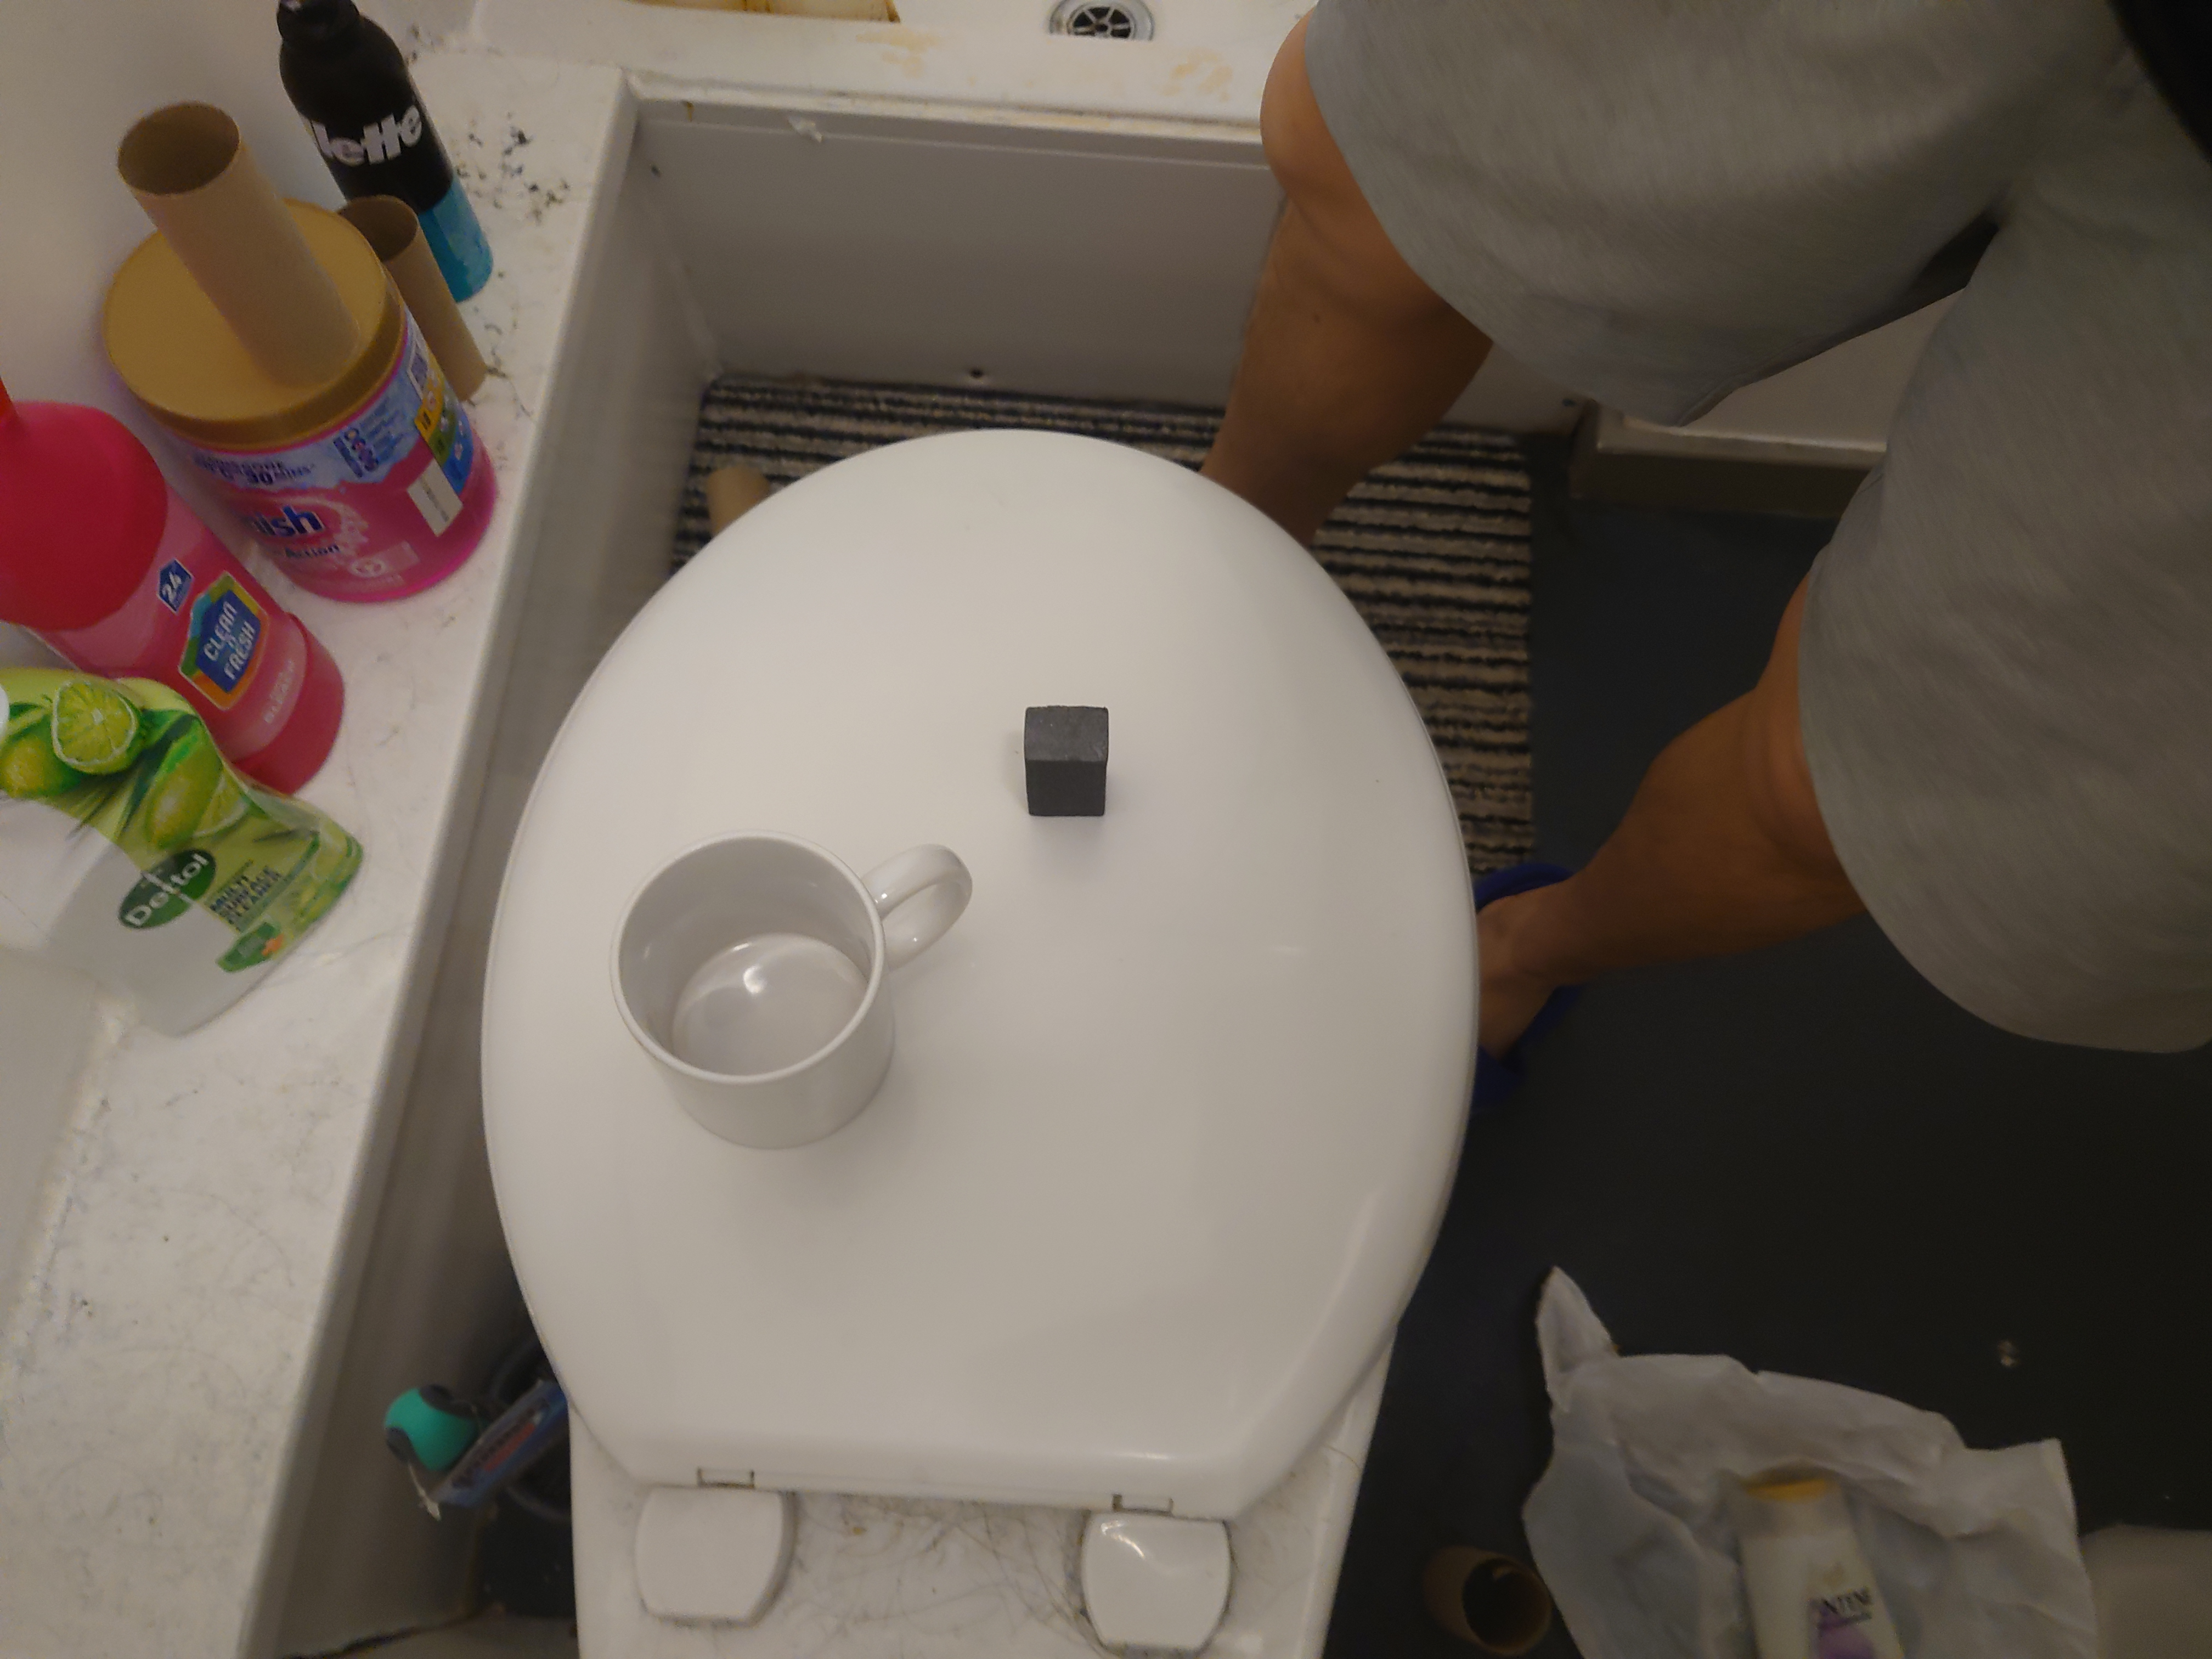cup: (608, 842, 979, 1147)
target: (1010, 699, 1118, 821)
